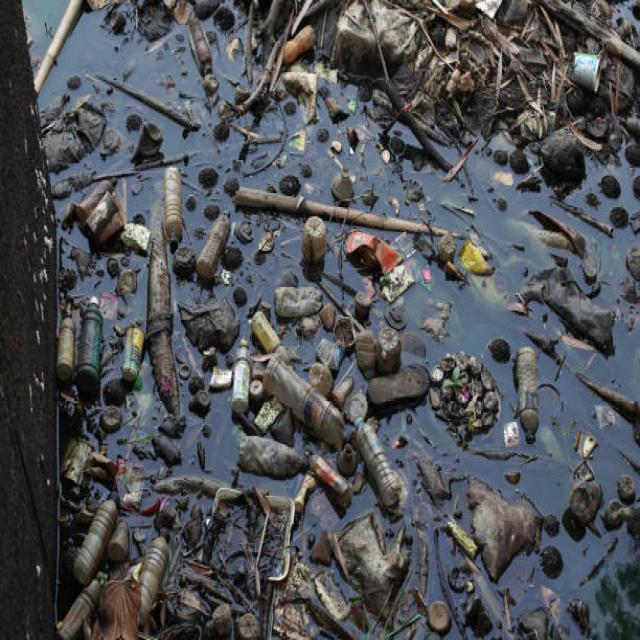plastic: (55, 175, 608, 640), (95, 502, 176, 638), (263, 366, 361, 458), (358, 334, 426, 411), (61, 303, 115, 389), (230, 342, 256, 427)
